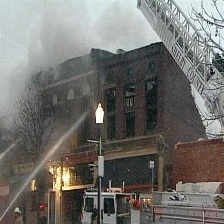fire: (51, 167, 71, 188)
smoke: (20, 4, 119, 97)
